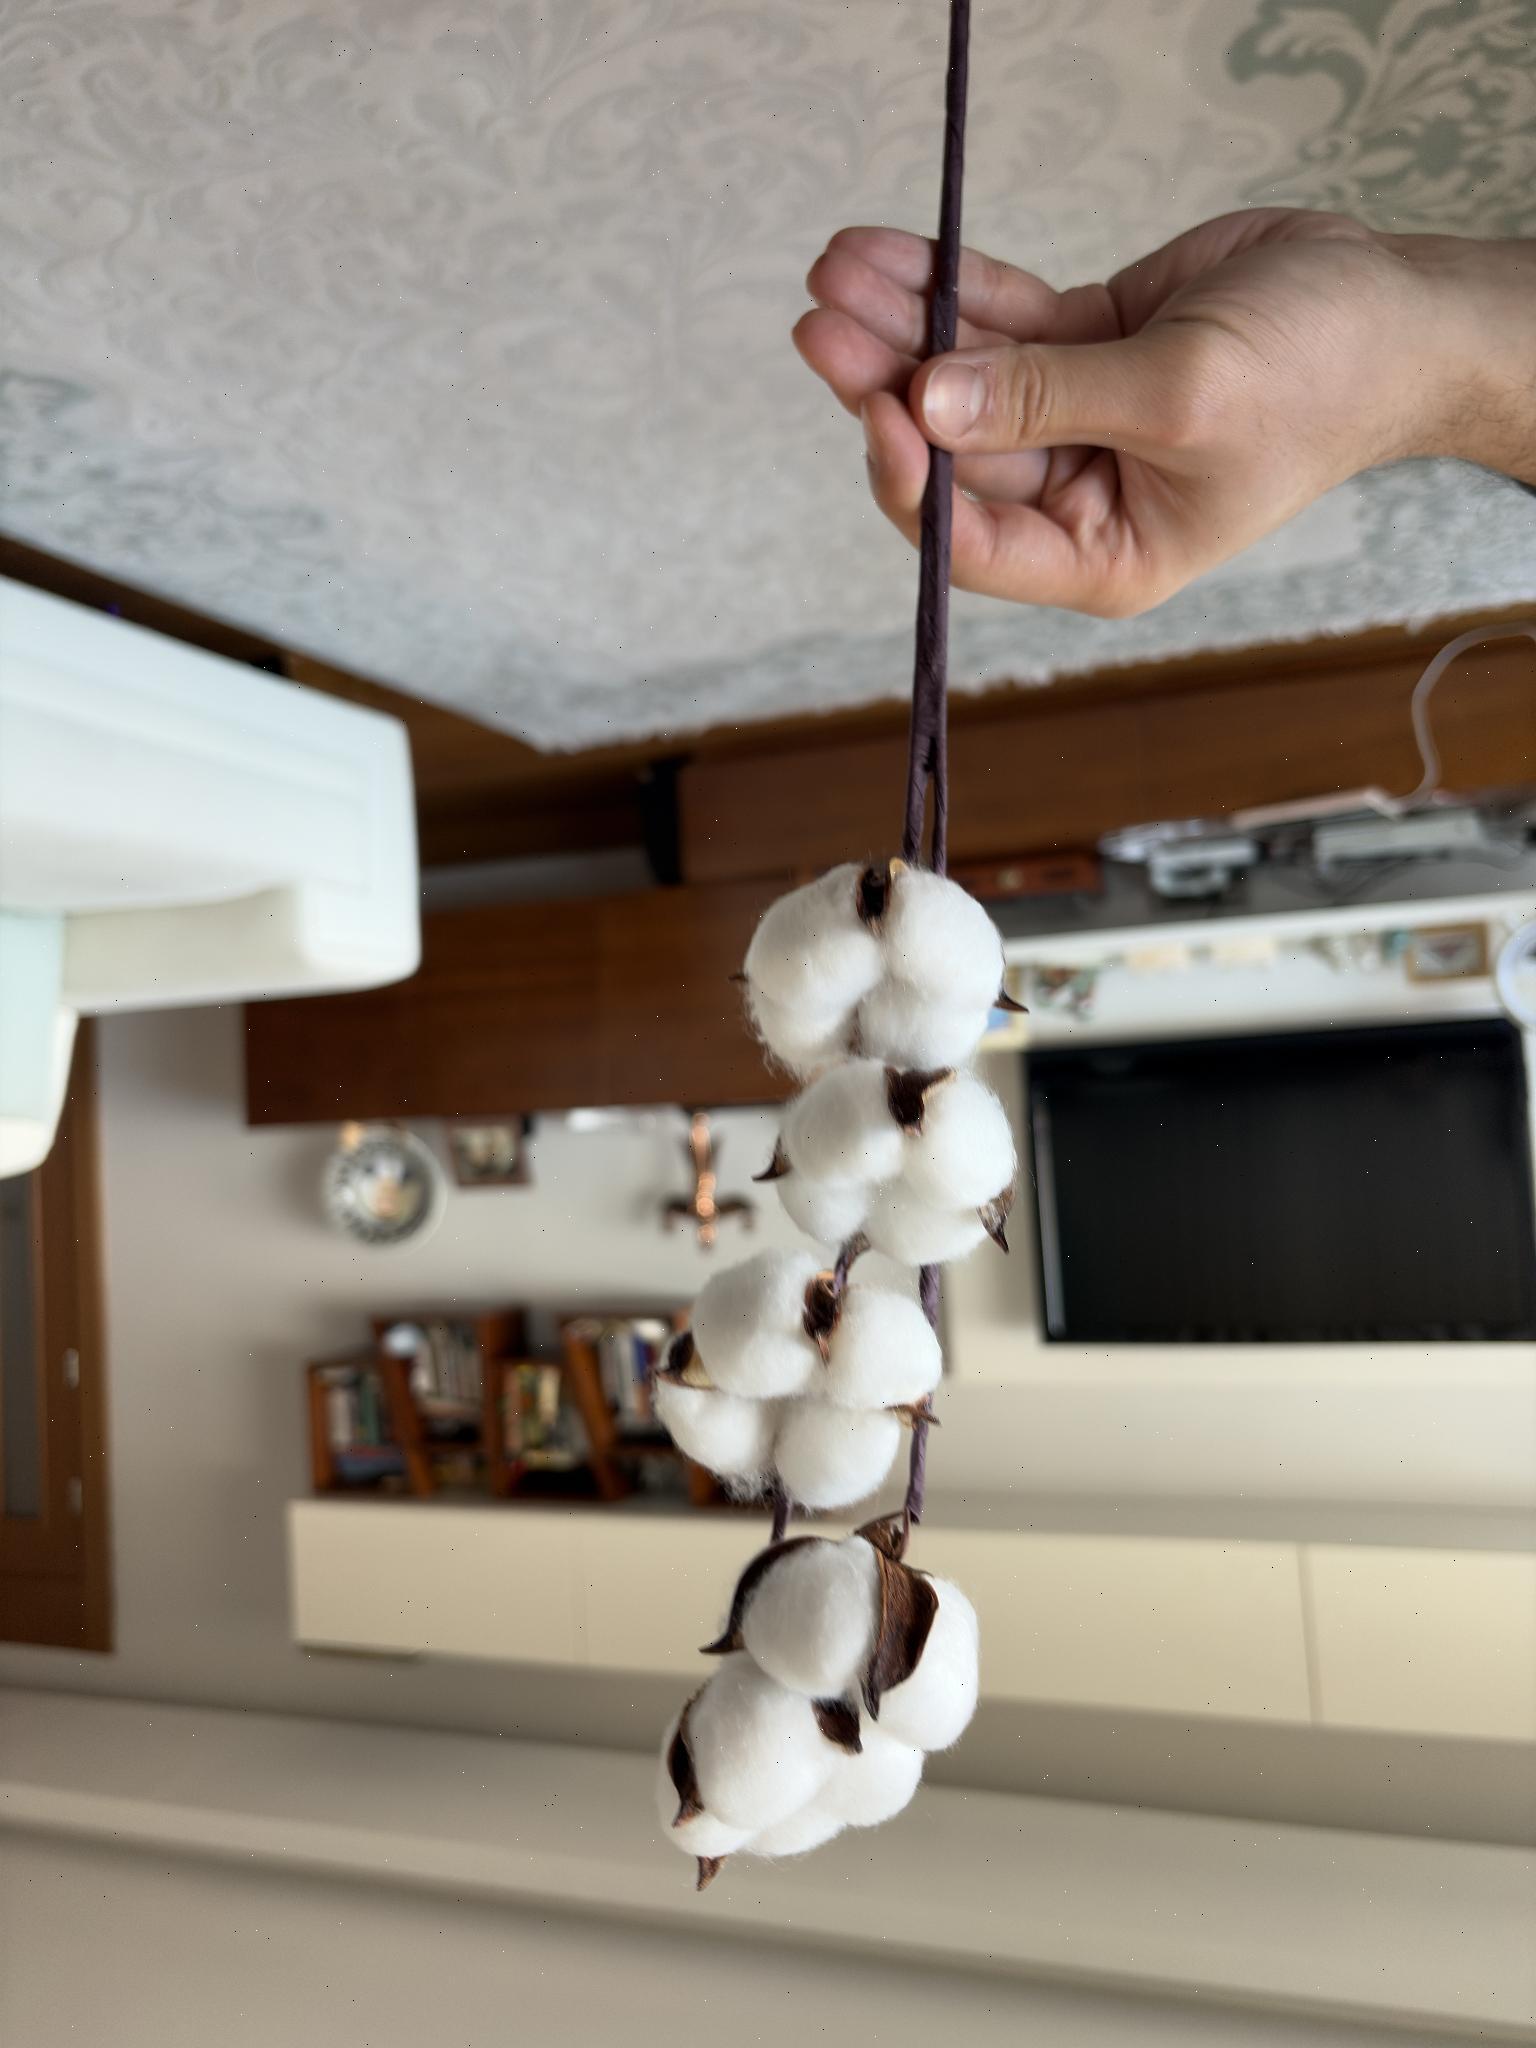cotton_boll: (687, 1651, 837, 1835), (741, 1535, 879, 1698), (745, 864, 883, 1014), (691, 1251, 821, 1398), (876, 1580, 979, 1751), (881, 868, 1004, 1008), (904, 1069, 1015, 1209), (820, 1284, 942, 1409), (783, 1059, 904, 1187), (653, 1377, 779, 1493), (774, 1398, 902, 1508), (655, 1717, 750, 1859), (857, 974, 992, 1071), (812, 1724, 923, 1827), (865, 1177, 987, 1266), (745, 982, 854, 1079), (778, 1169, 871, 1250), (744, 1806, 842, 1856)
cotton_boll-cluster: (649, 1530, 987, 1898), (652, 1247, 947, 1514), (739, 856, 1013, 1085), (762, 1055, 1023, 1271)
